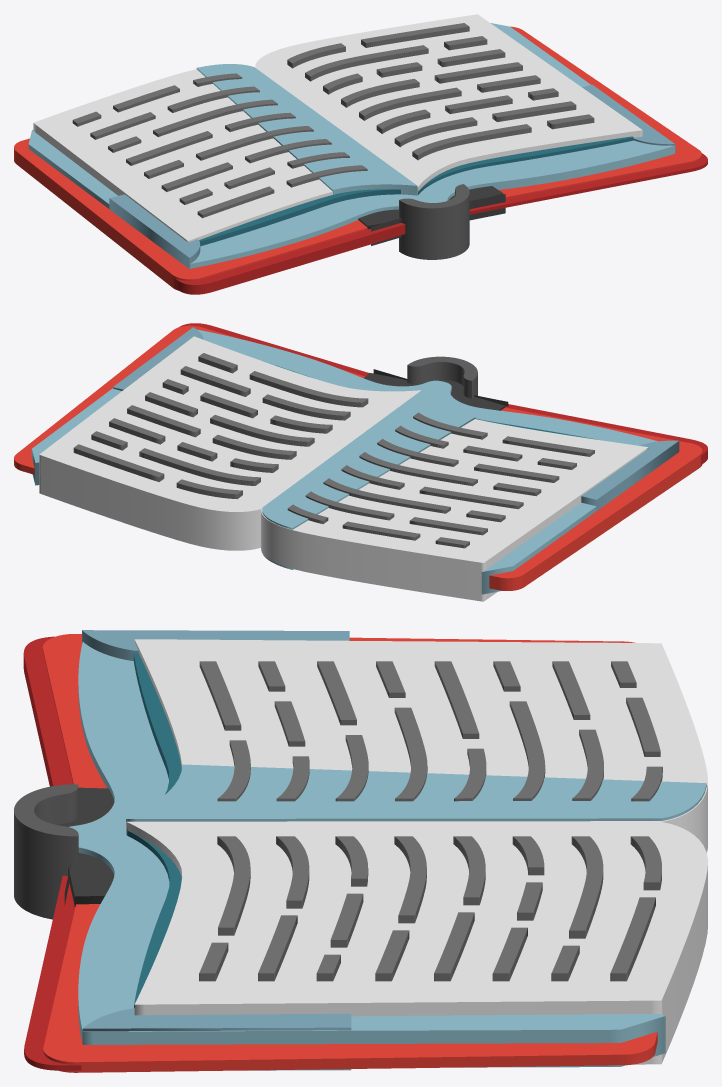
File: emoji_u1f4d6.glb
3 views of the same model, one above another, from view 1: azimuth 30°, elevation 25°; view 2: azimuth 150°, elevation 25°; view 3: azimuth 270°, elevation 25° (orthographic). The views are drawn at different scales.
Visible parts, largest first — view 1: emoji_u1f4d6; view 2: emoji_u1f4d6; view 3: emoji_u1f4d6.
Part boxes in pixels (x1,y1,x2,y2): emoji_u1f4d6: (14,14,707,294); emoji_u1f4d6: (14,323,707,601); emoji_u1f4d6: (14,630,707,1072).
Bounding box in the file's own units: 0.0342 × 0.0032 × 0.0237.
